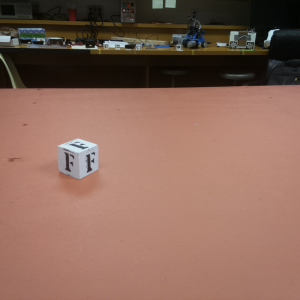blockF: (58, 138, 99, 181)
